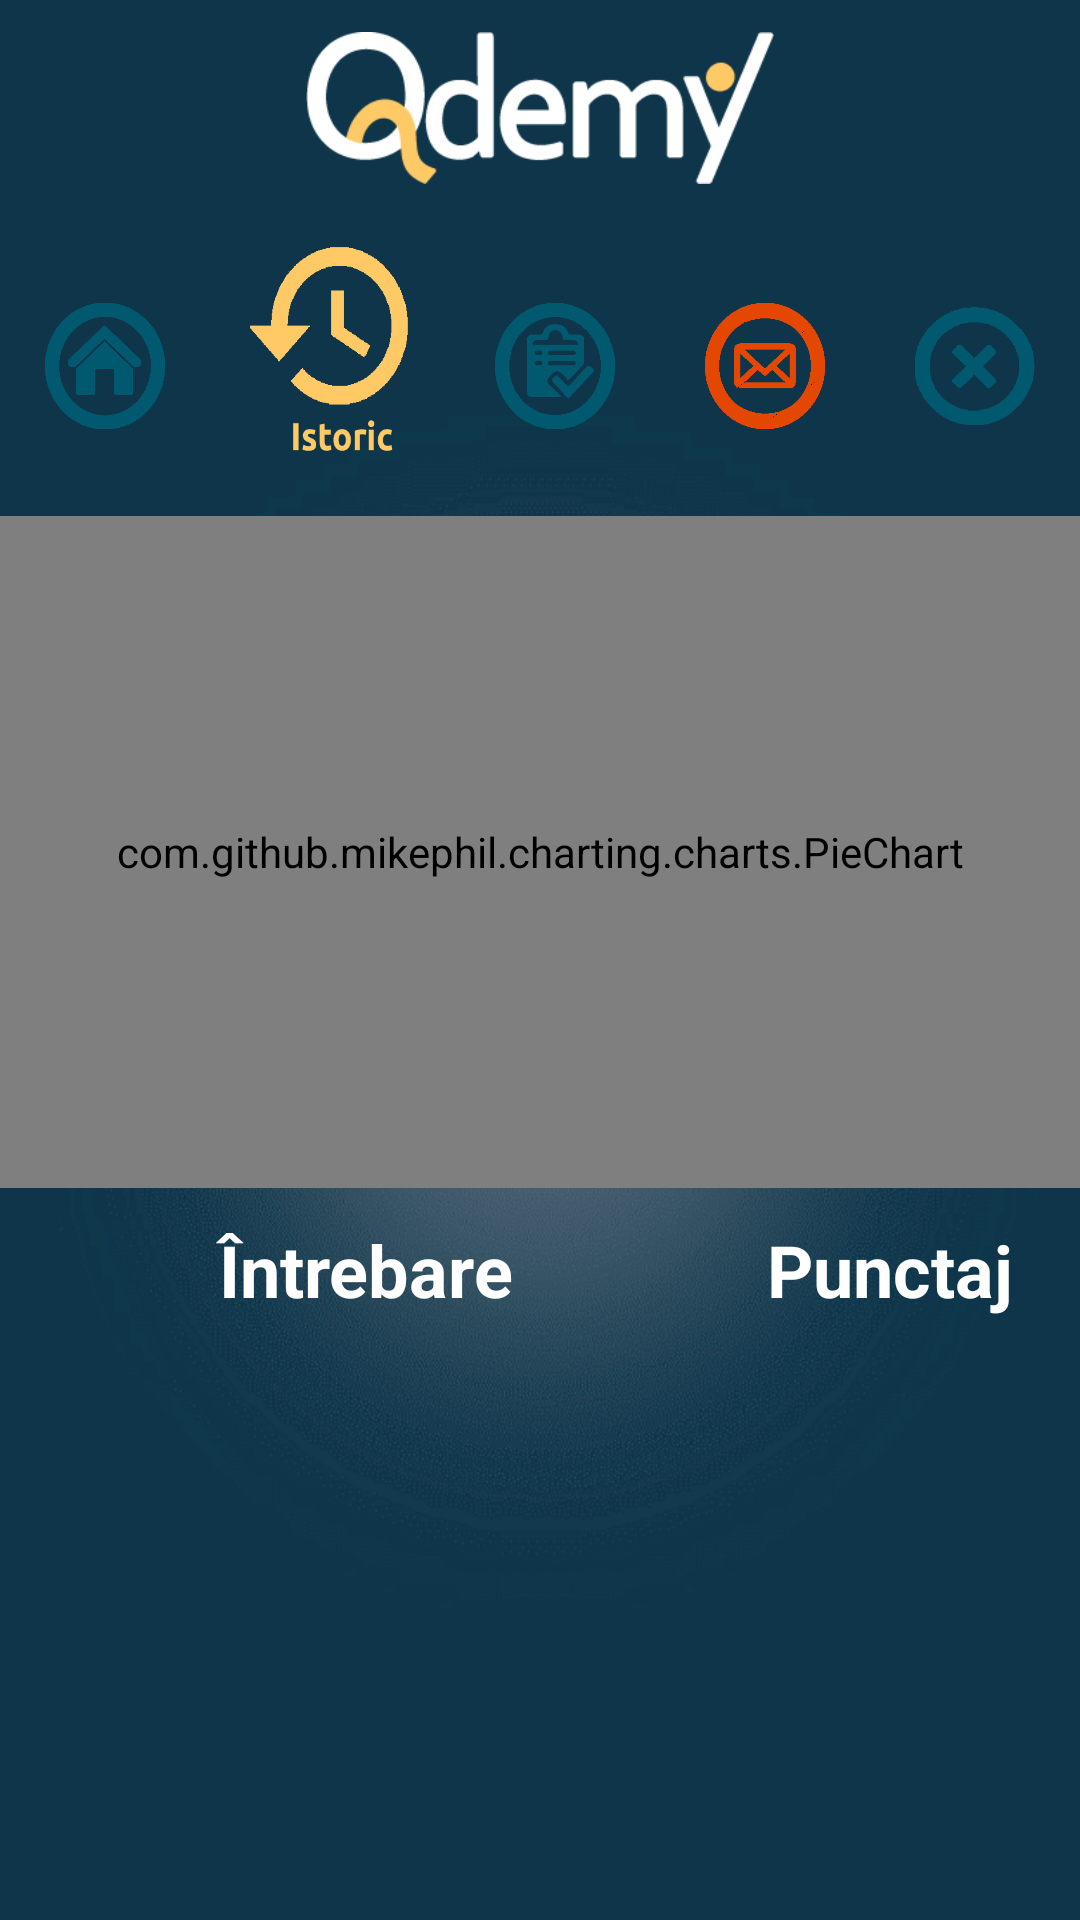

Screen size 1080px×1920px. Icon name, then its center in pixels as (x,y):
acasax: (105,366)
deconectare: (974,366)
mail: (765,366)
testex: (555,366)
